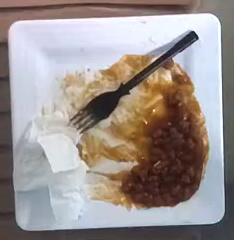beans: (121, 86, 208, 207)
